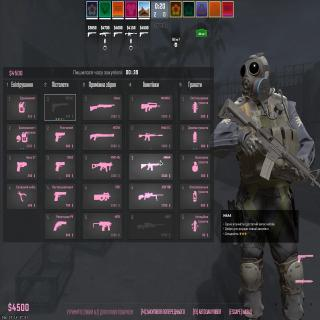CT-Body: (214, 52, 315, 320)
CT-Head: (240, 52, 271, 102)
